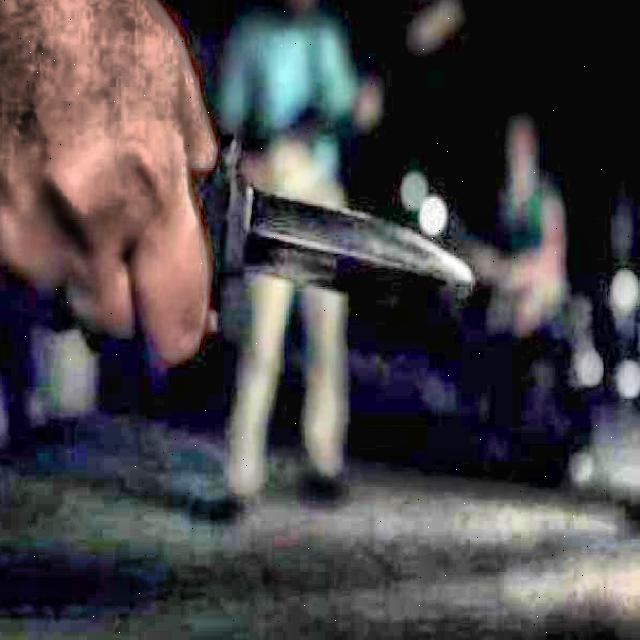knife: (189, 140, 476, 316)
